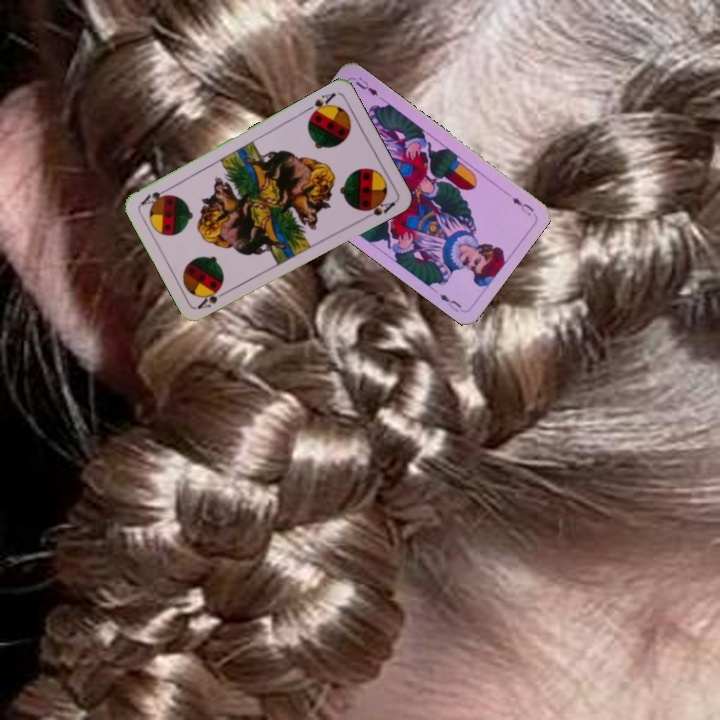EU: (508, 193, 536, 219)
SA: (301, 88, 339, 120), (194, 285, 232, 312)
